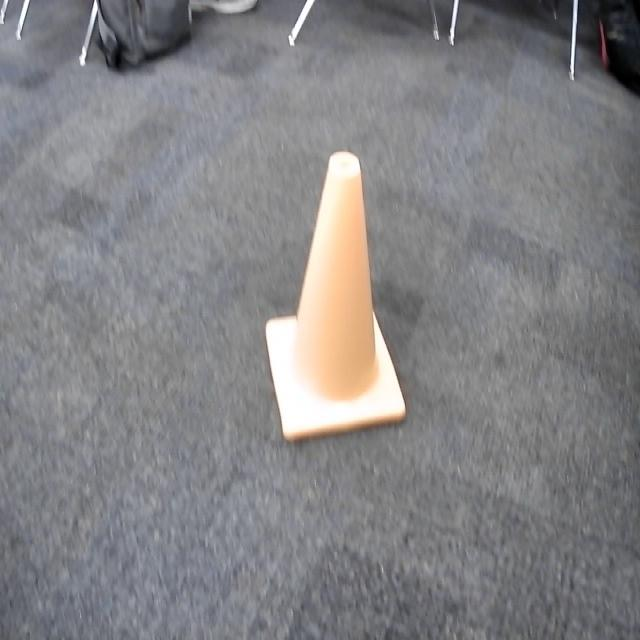cone: (261, 147, 411, 450)
